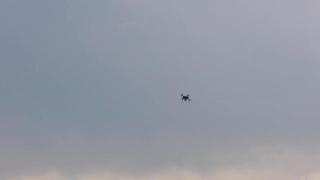UAV: (180, 94, 192, 105)
